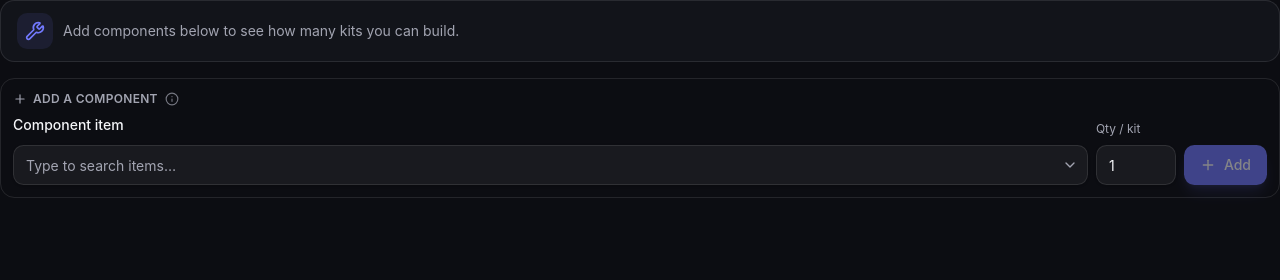
Test: KitEditor — add a component › surfaces an add failure in an alert
Click the dropdown labelled "Component item": click(550, 165) left=13, top=145, right=1088, bottom=185
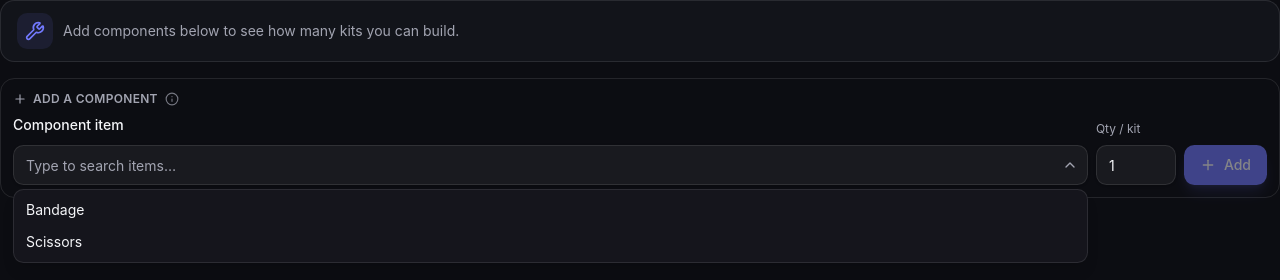
Press the mouse on the option "Bandage": (55, 210) left=26, top=201, right=84, bottom=218
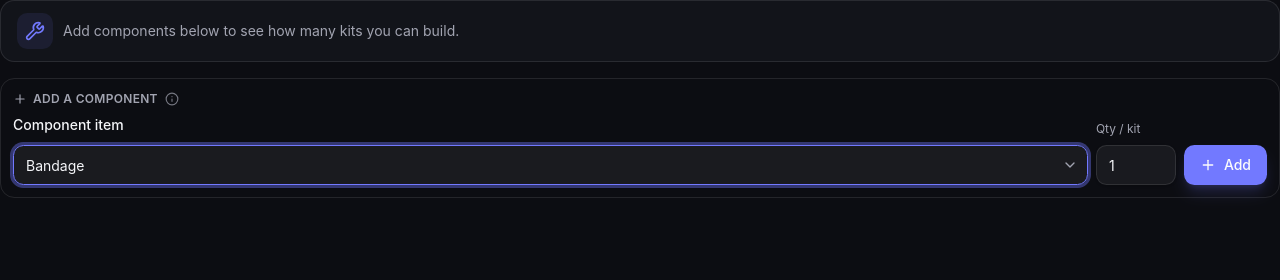
Click the button with test id "add-kit-component": click(1225, 165) left=1184, top=145, right=1267, bottom=185
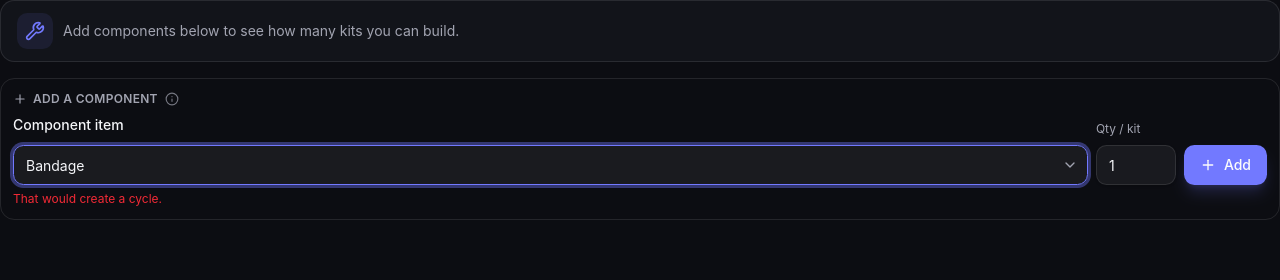
Result: the message reads "That would create a cycle." at left=13, top=191, right=162, bottom=206
